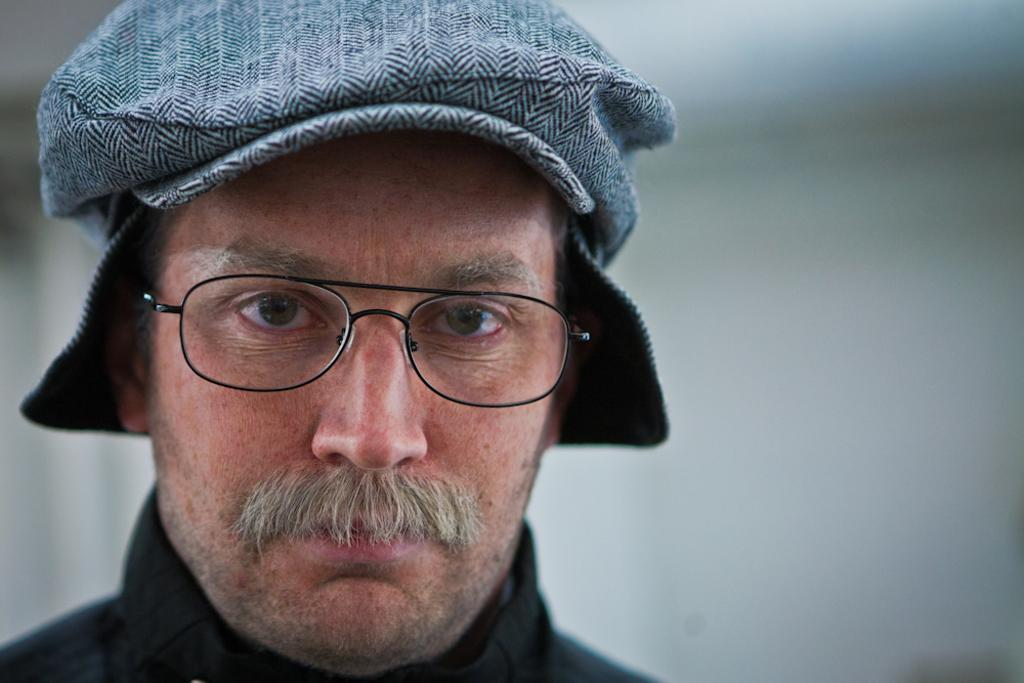Hat: (16, 0, 672, 449)
